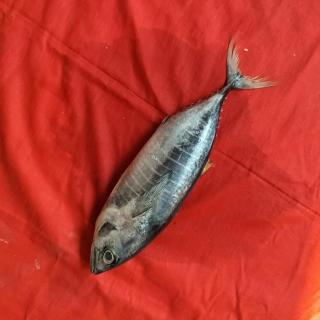Ikan: (83, 22, 281, 295)
